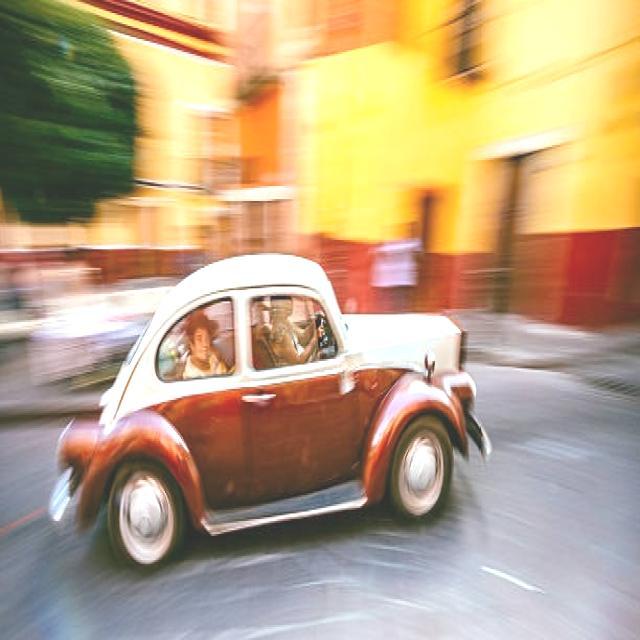car: (66, 270, 473, 539)
